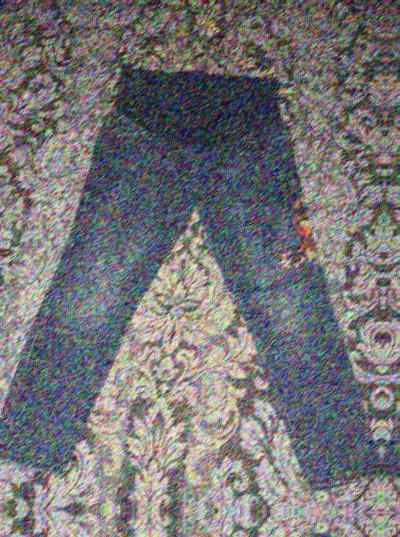Pants: (4, 43, 373, 490), (0, 532, 368, 537), (396, 48, 400, 494), (390, 536, 400, 537)
